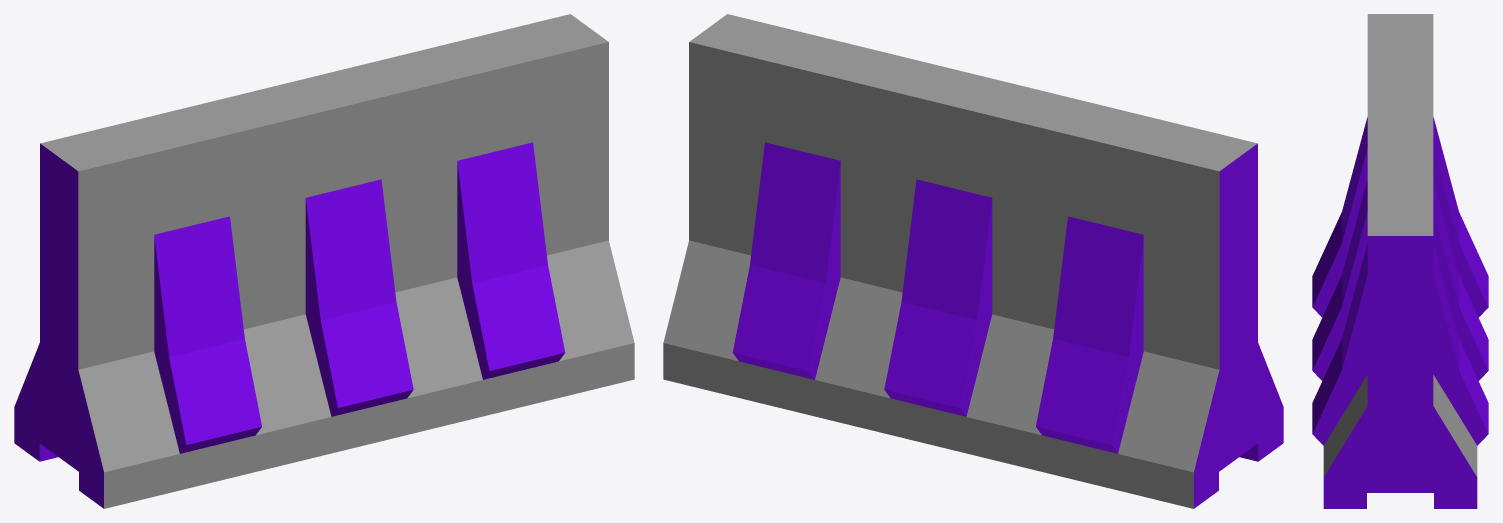
Rendered from Barricade_Concrete_07.fbx.
3 views of the same model, side by side, from view 1: azimuth 30°, elevation 25°; view 2: azimuth 150°, elevation 25°; view 3: azimuth 270°, elevation 25° (orthographic). The views are drawn at different scales.
Visible parts, largest first — view 1: Obstacle_Barricade_Concrete_07; view 2: Obstacle_Barricade_Concrete_07; view 3: Obstacle_Barricade_Concrete_07.
Part boxes in pixels (x1=…): Obstacle_Barricade_Concrete_07: x1=14, y1=14, x2=634, y2=508; Obstacle_Barricade_Concrete_07: x1=663, y1=14, x2=1283, y2=508; Obstacle_Barricade_Concrete_07: x1=1312, y1=14, x2=1488, y2=508.
Bounding box in the file's own units: 126 × 72.26 × 42.21.
Materials: 1 (1 with a texture image).
